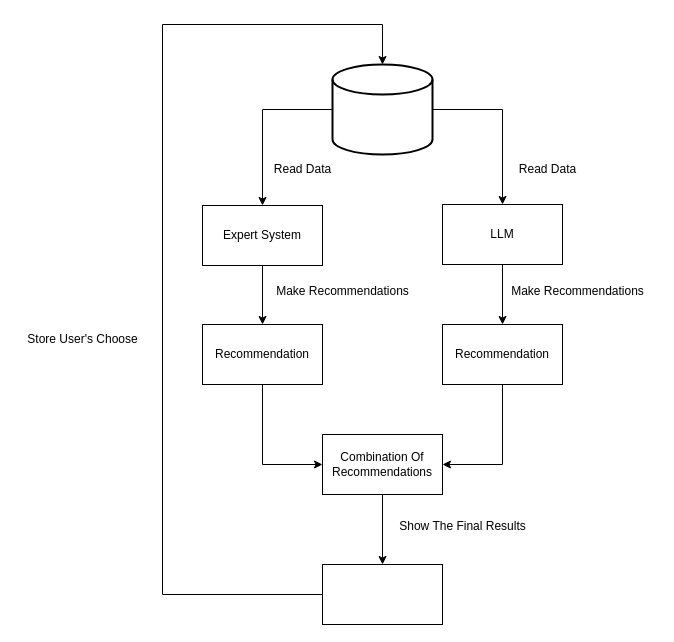
Some shapes in this 674 by 642 pixel diagram are drawn without their labels. Each missing label, with the centre of its shape:
"Project Data" goes at point (382, 109).
"User Choose" goes at point (382, 594).
